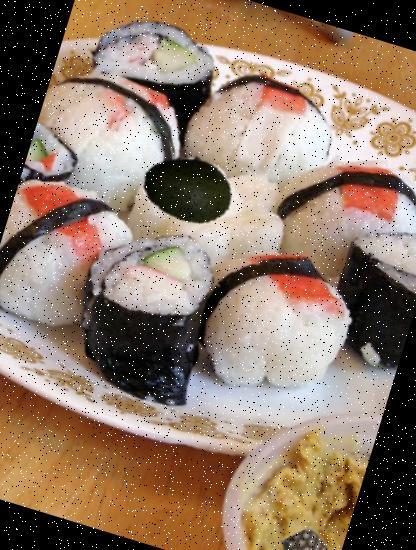Avocado: (131, 131, 246, 246)
Pineapple: (274, 524, 340, 550)
